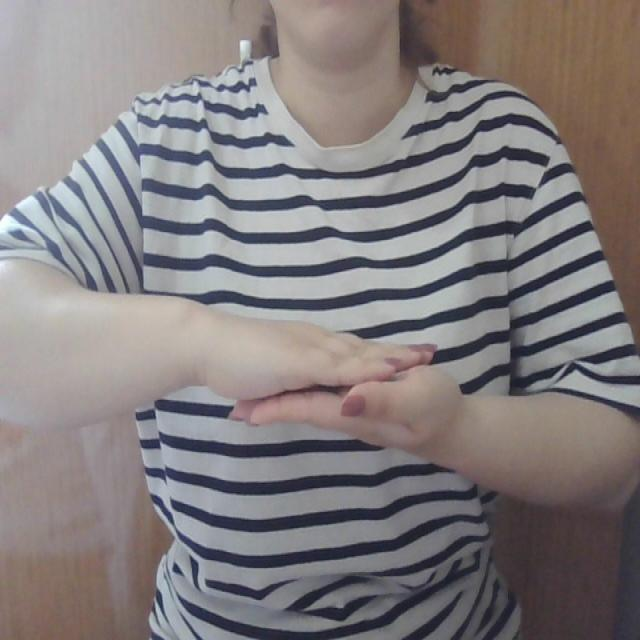Arkadas: (183, 299, 527, 480)
